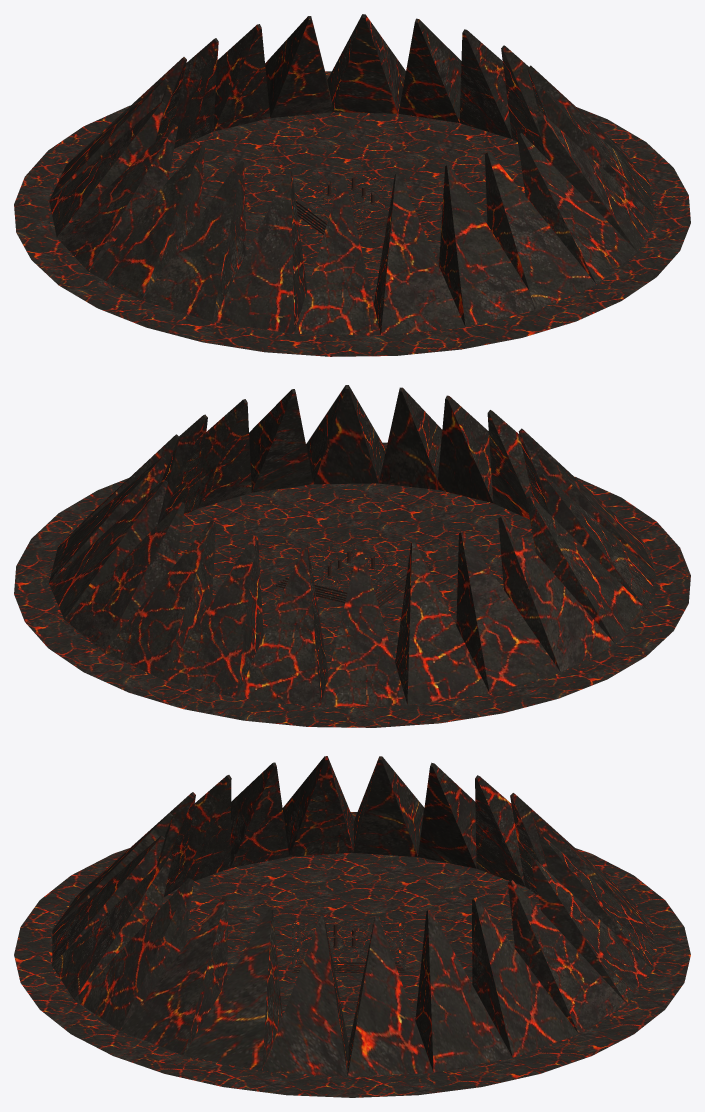
Rendered from HellArena.fbx.
3 views of the same model, one above another, from view 1: azimuth 30°, elevation 25°; view 2: azimuth 150°, elevation 25°; view 3: azimuth 270°, elevation 25° (orthographic).
Visible parts, largest first — view 1: Cube, Circle, Cube.001; view 2: Cube, Circle, Cube.001; view 3: Cube, Circle, Cube.001.
Part boxes in pixels (bbox=[...]): Cube: bbox=[49, 14, 655, 335]; Circle: bbox=[14, 71, 690, 356]; Cube.001: bbox=[294, 172, 432, 235]; Cube: bbox=[49, 385, 655, 706]; Circle: bbox=[14, 442, 690, 727]; Cube.001: bbox=[276, 541, 432, 607]; Cube: bbox=[51, 756, 653, 1077]; Circle: bbox=[14, 812, 690, 1097]; Cube.001: bbox=[292, 920, 406, 972].
Bounding box in the file's own units: 15012 × 2905 × 15012.
